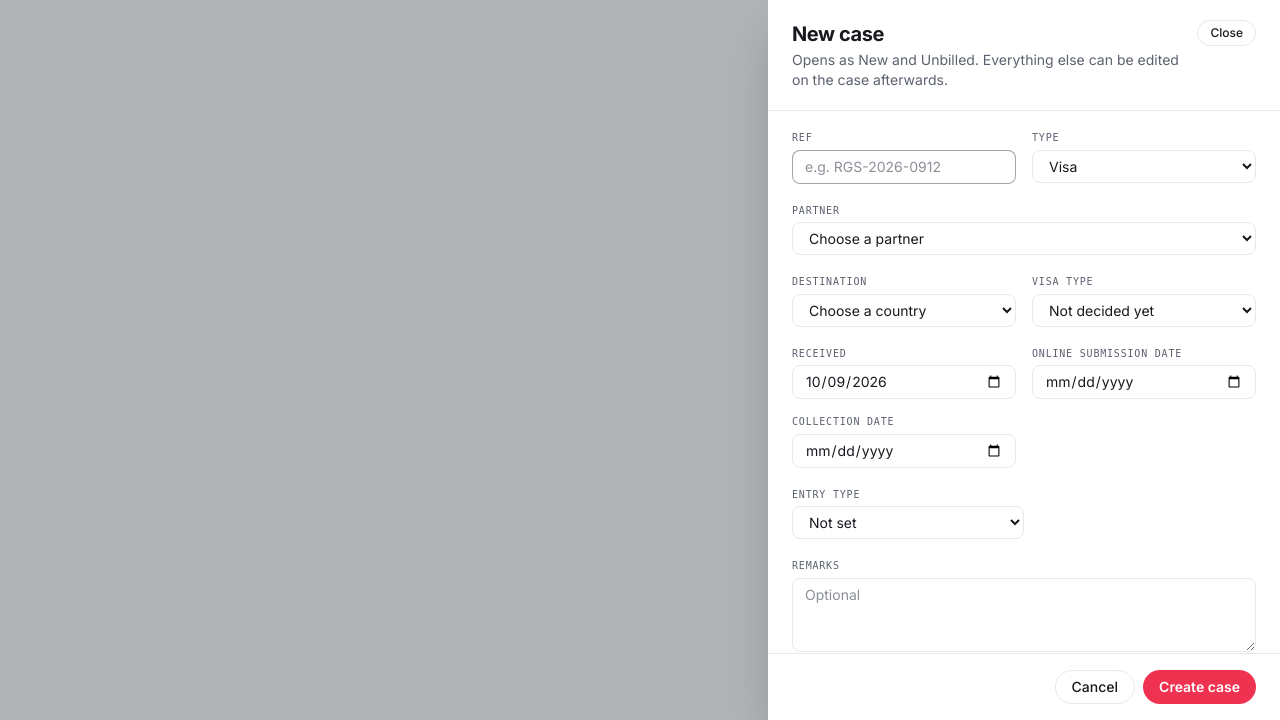
it: NewCaseDrawer › shows the server's failure sentence and stays open when the case write is rejected
The width and height of the screenshot is (1280, 720).
Type " RGS-1 " into the field with placeholder "e.g. RGS-2026-0912".
click(904, 166); type(" RGS-1 ")  # box [792,150,1016,184]
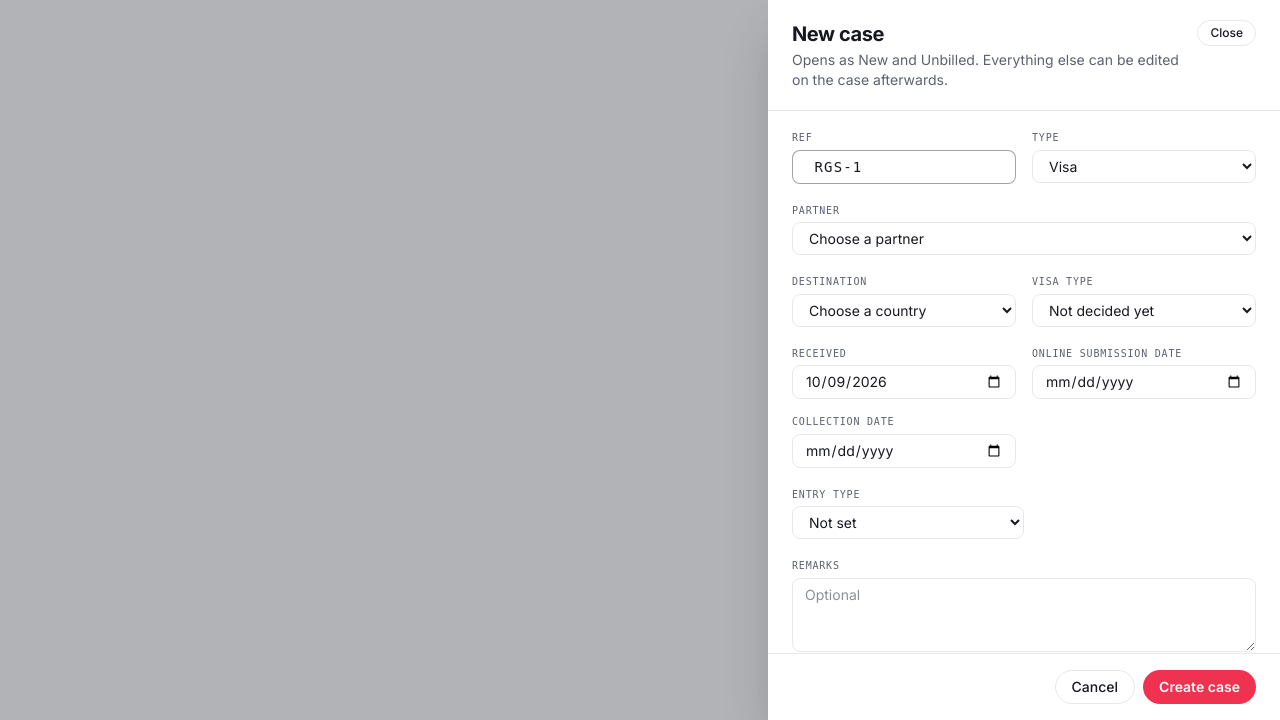
Select "United Arab Emirates" in the dropdown labelled "Destination" at (904, 310), box [792,294,1016,326]
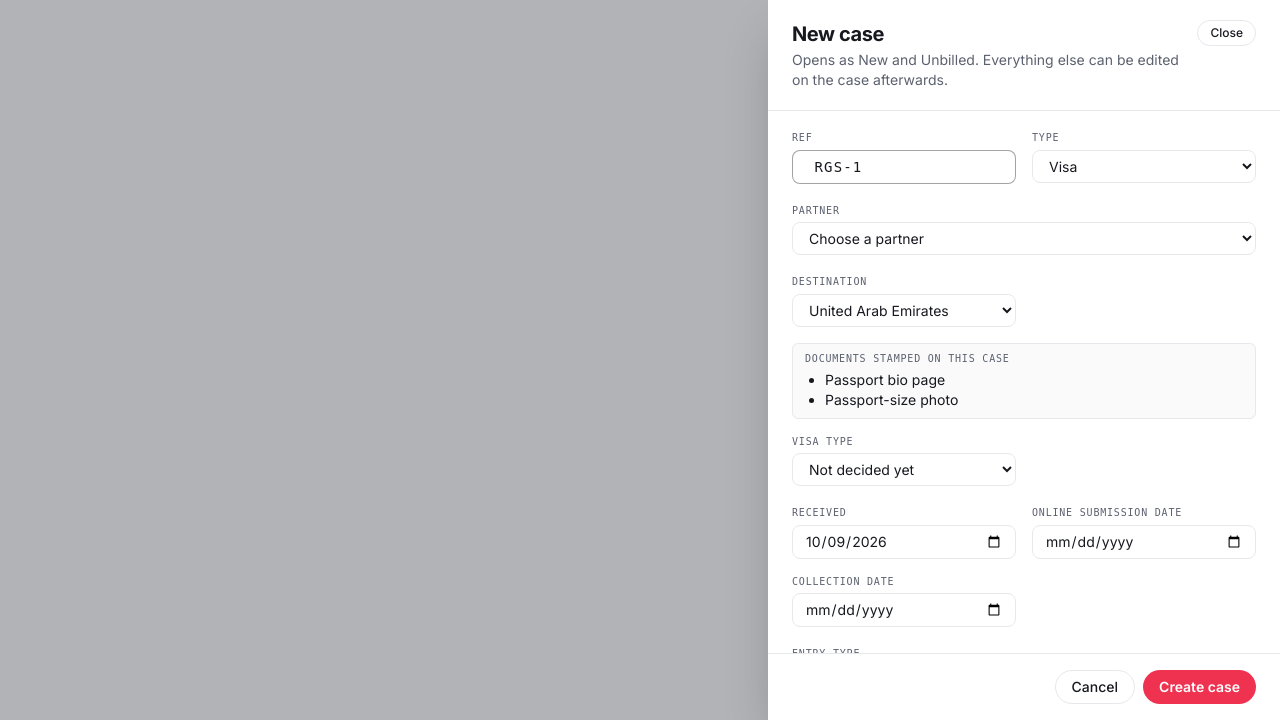
Type "2026-09-16" into the date field labelled "Received".
click(904, 542); type("2026-09-16")  # box [792,525,1016,559]
(page scrolled)
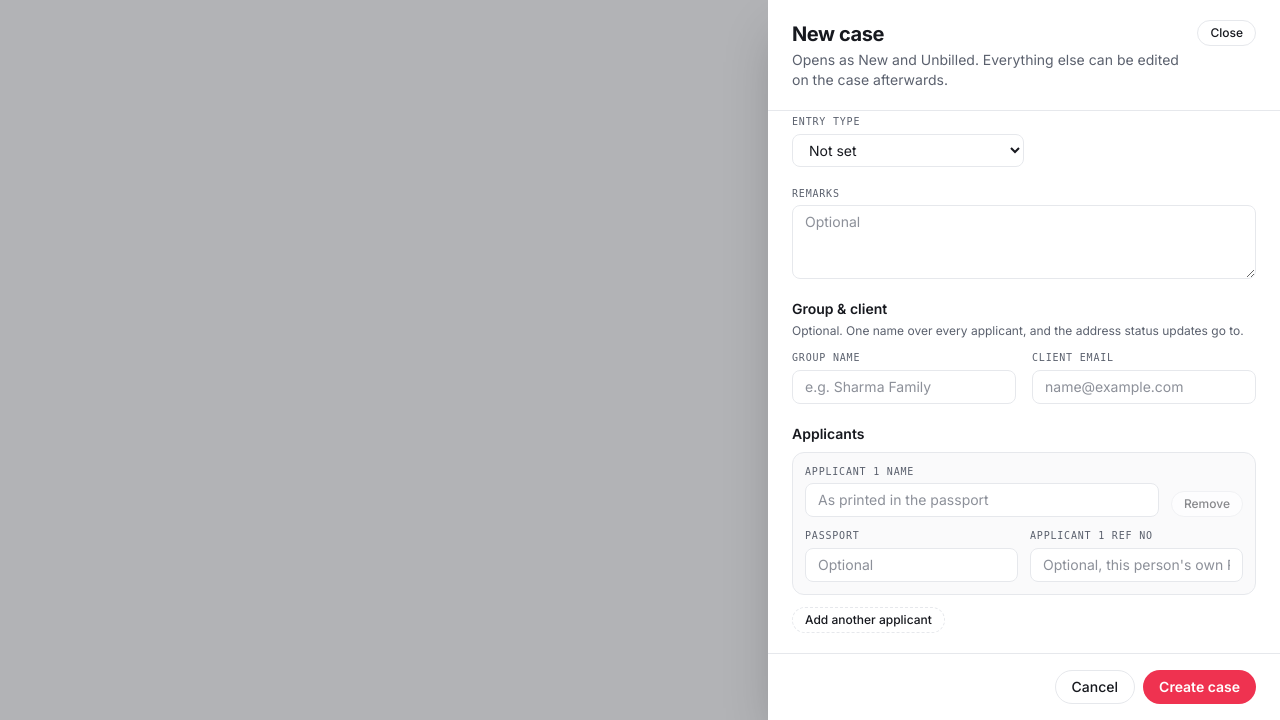
Type "Asha Rao" into the field labelled "Applicant 1 name".
click(982, 500); type("Asha Rao")  # box [805,483,1159,517]
(page scrolled)
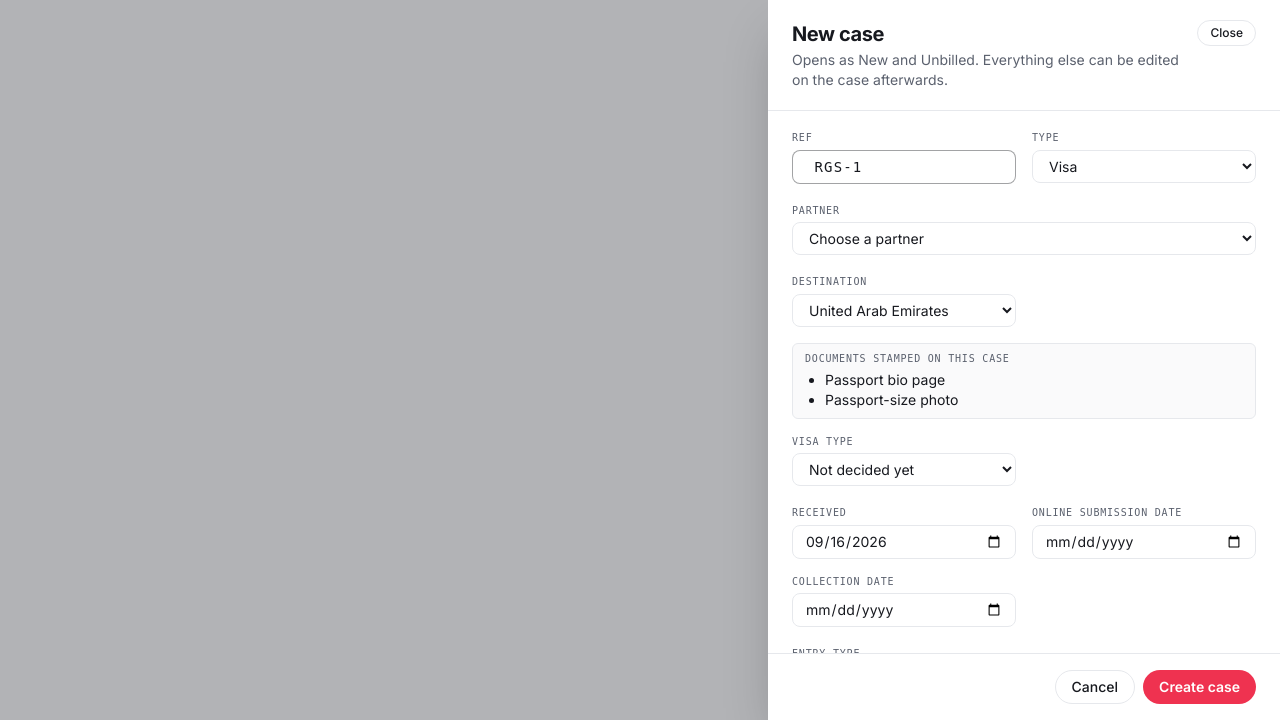
Select "Skyline Travels" in the dropdown labelled "Partner" at (1024, 238), box [792,222,1256,255]
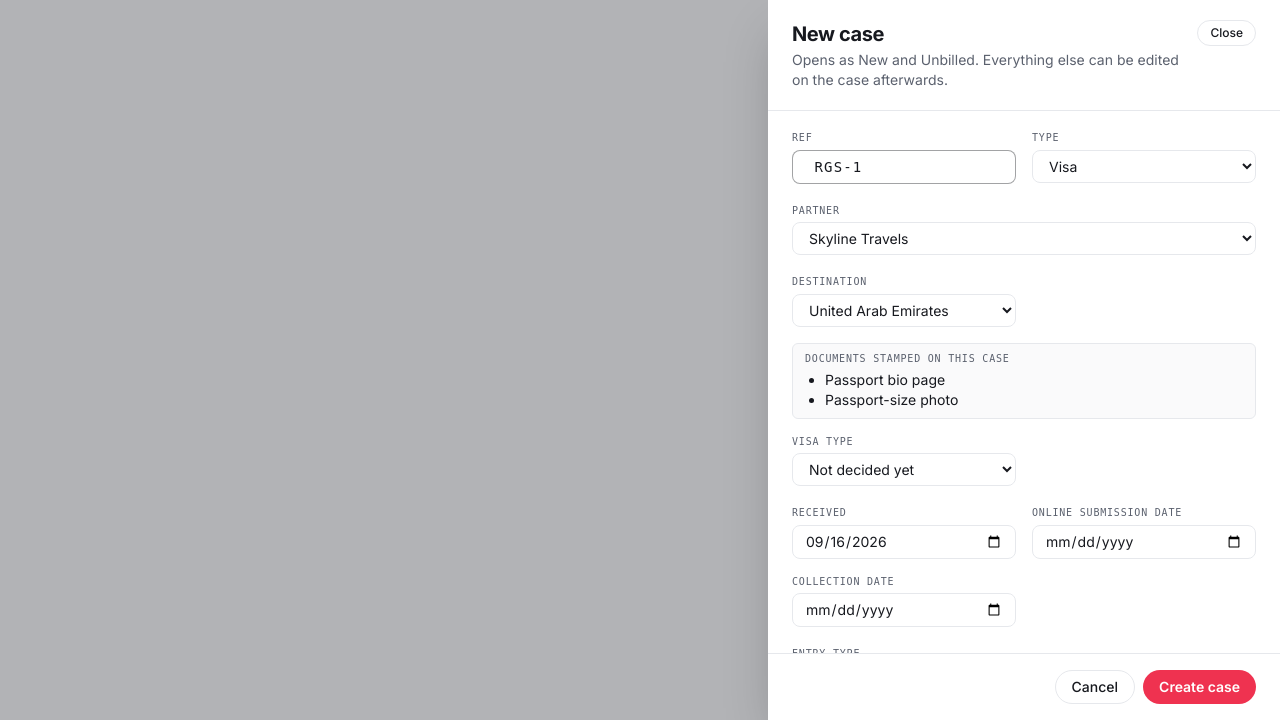
Click the button "Create case".
click(1200, 687)  # box [1143,670,1256,704]
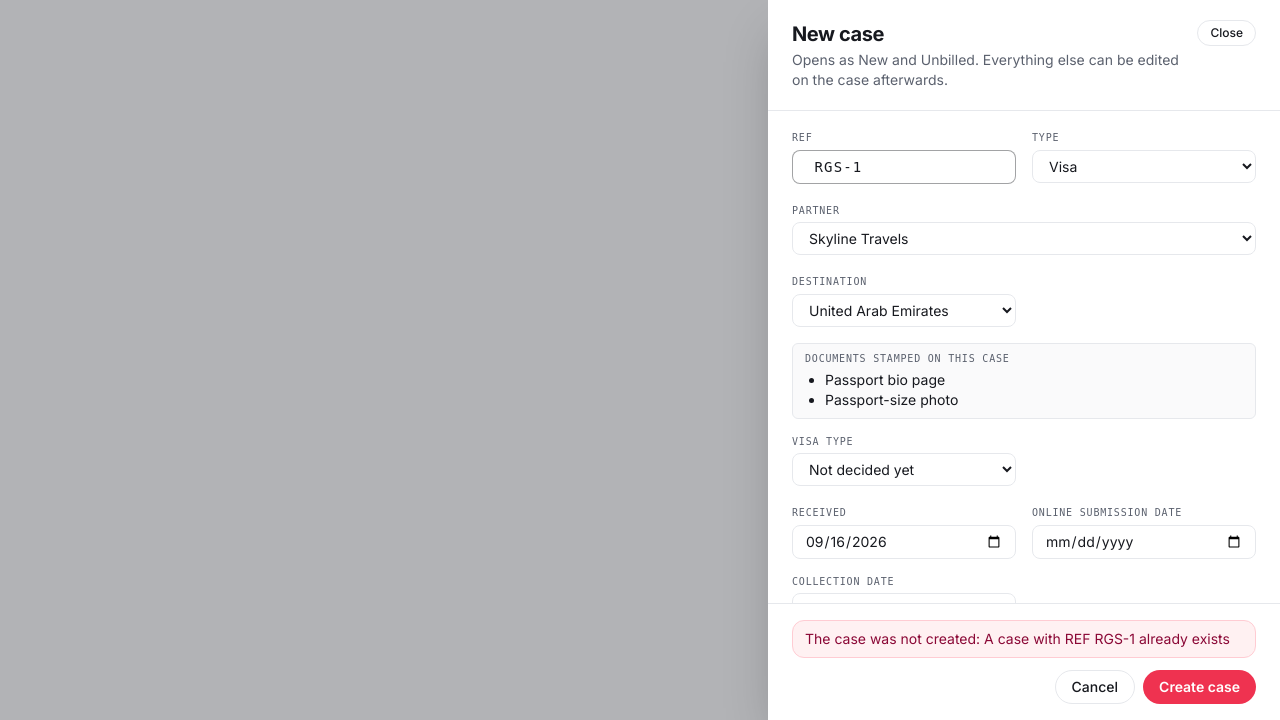
Result: the message reads "The case was not created: A case with REF RGS-1 already exists" at [792,620,1256,658]
